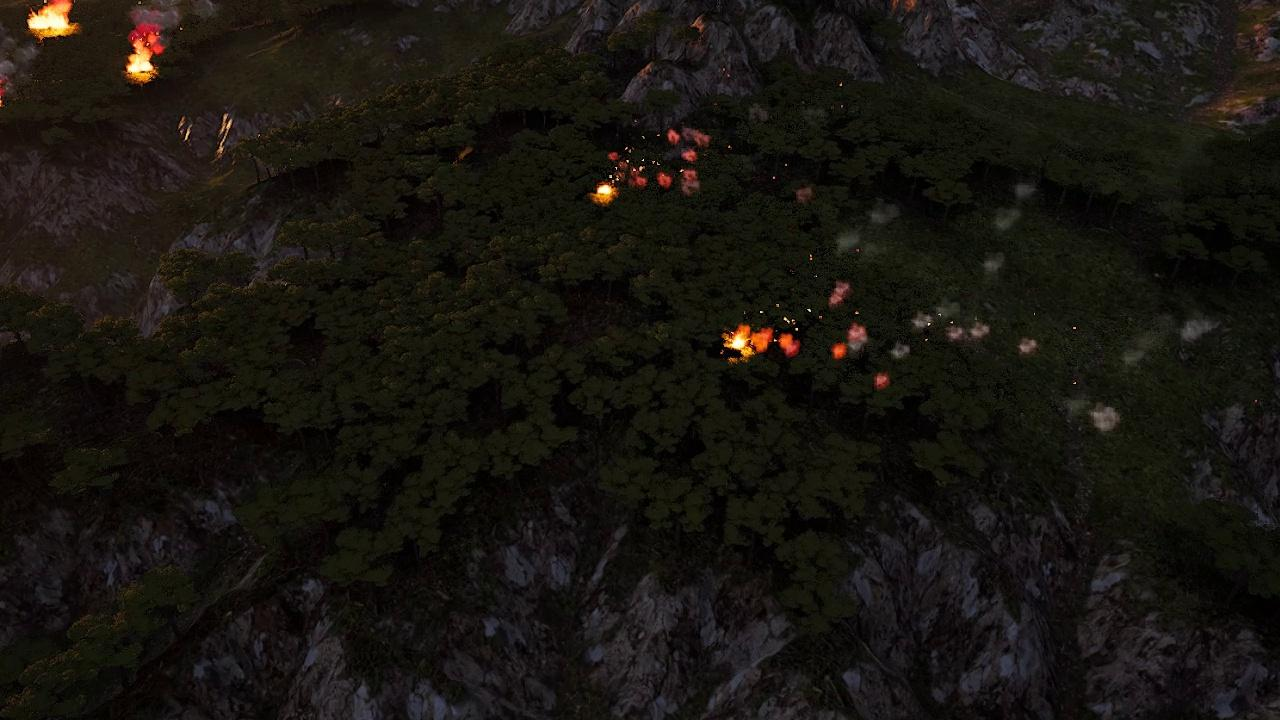fire: (127, 29, 165, 79), (30, 0, 75, 34), (722, 326, 764, 358), (592, 183, 614, 203), (834, 344, 848, 360)
smoke: (835, 198, 901, 311), (609, 125, 712, 195), (979, 176, 1039, 290), (909, 304, 989, 348), (0, 33, 37, 110), (131, 0, 229, 28), (1085, 402, 1119, 435), (1180, 314, 1218, 342), (842, 322, 867, 358), (830, 281, 850, 310), (778, 332, 799, 357), (793, 185, 813, 205), (1020, 339, 1040, 357), (876, 373, 893, 391)
